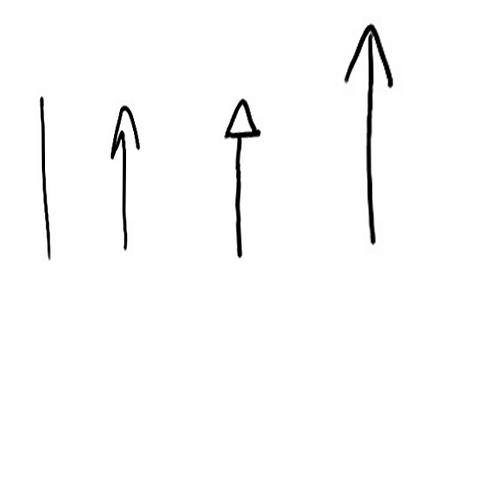arrow: (346, 21, 401, 245), (220, 96, 264, 261), (113, 104, 144, 254), (32, 94, 60, 260)
